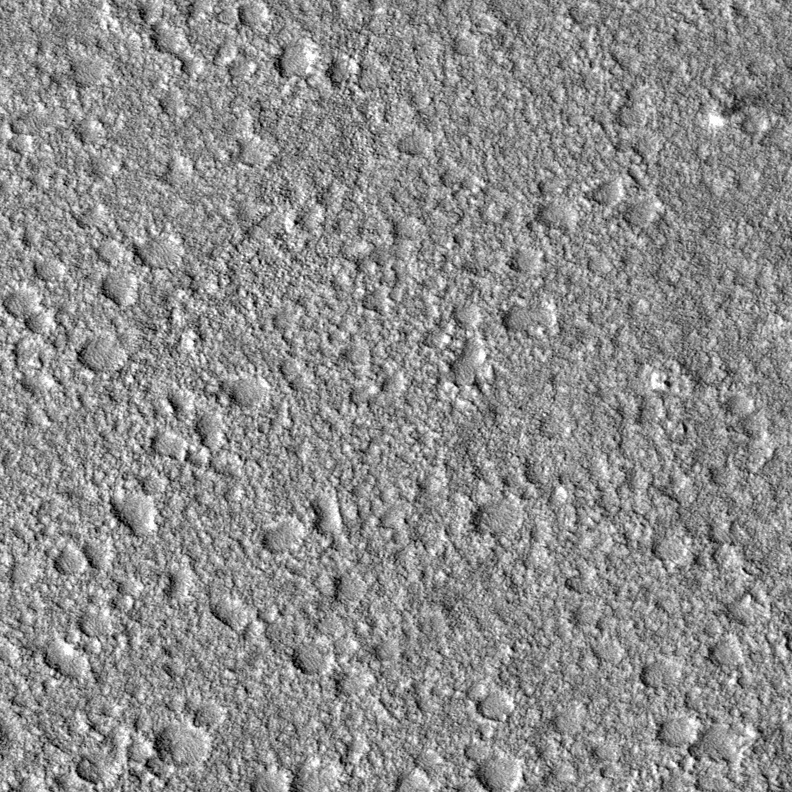dust_devil: (706, 87, 764, 131)
